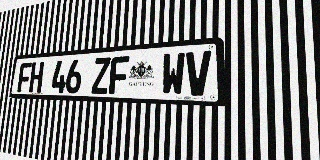4: (51, 60, 68, 93)
6: (65, 59, 83, 93)
F: (109, 56, 129, 94), (17, 62, 32, 92)
H: (29, 61, 44, 93)
V: (185, 50, 211, 96)
W: (161, 52, 185, 95)
Z: (91, 57, 111, 94)
